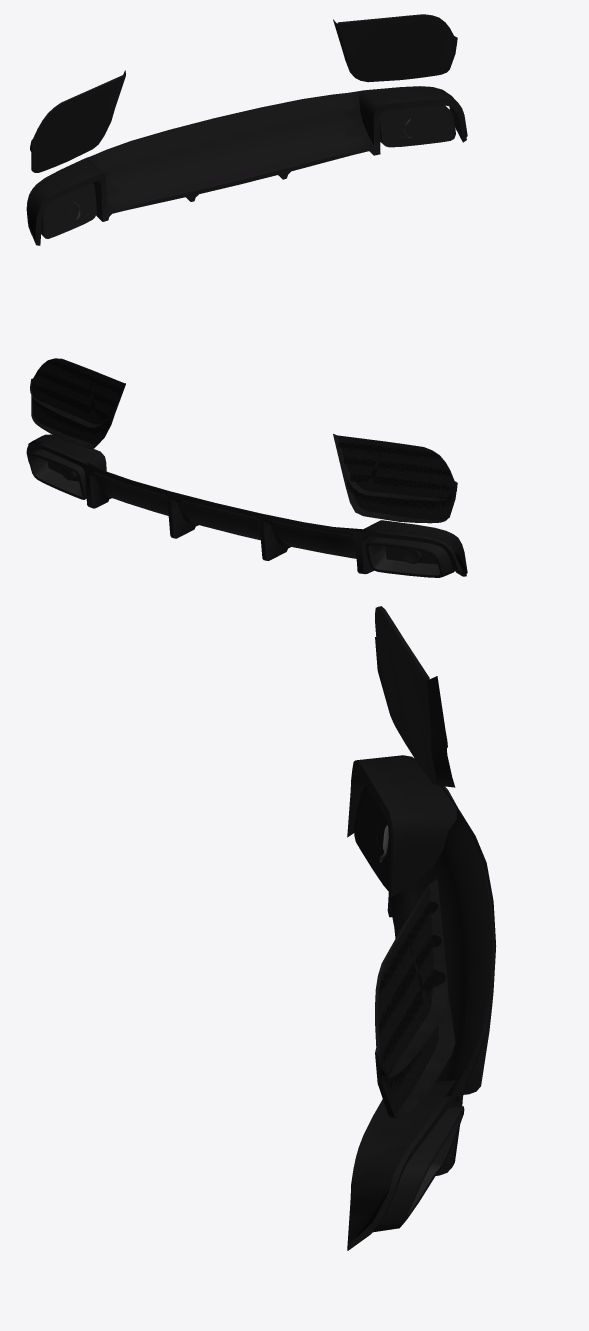
Rendered from sbr_rear_s.dae.
3 views of the same model, one above another, from view 1: azimuth 30°, elevation 25°; view 2: azimuth 150°, elevation 25°; view 3: azimuth 270°, elevation 25° (orthographic). The views are drawn at different scales.
Parts seen in each view (by area): view 1: sbr_bumper_R_s_lipa, sbr_bumper_R_s_l, sbr_exhausttip_s, sbr_bumper_R_s, sbr_bumper_R_s_lipb; view 2: sbr_bumper_R_s, sbr_bumper_R_s_lipa, sbr_bumper_R_s_l, sbr_exhausttip_s, sbr_bumper_R_s_lipb; view 3: sbr_bumper_R_s_lipa, sbr_bumper_R_s_l, sbr_bumper_R_s, sbr_exhausttip_s.
Part boxes in pixels (left/top/right/bottom): sbr_bumper_R_s_lipa: left=26, top=86, right=467, bottom=245; sbr_bumper_R_s_l: left=31, top=15, right=457, bottom=172; sbr_exhausttip_s: left=41, top=105, right=455, bottom=238; sbr_bumper_R_s: left=26, top=14, right=457, bottom=235; sbr_bumper_R_s_lipb: left=153, top=158, right=324, bottom=204; sbr_bumper_R_s: left=30, top=358, right=466, bottom=570; sbr_bumper_R_s_lipa: left=26, top=434, right=467, bottom=576; sbr_bumper_R_s_l: left=31, top=372, right=456, bottom=523; sbr_exhausttip_s: left=28, top=449, right=454, bottom=577; sbr_bumper_R_s_lipb: left=131, top=484, right=314, bottom=560; sbr_bumper_R_s_lipa: left=347, top=755, right=496, bottom=1250; sbr_bumper_R_s_l: left=375, top=607, right=455, bottom=1118; sbr_bumper_R_s: left=356, top=606, right=447, bottom=1237; sbr_exhausttip_s: left=354, top=785, right=464, bottom=1232.
Bounding box in the file's own units: 1.75 × 0.5896 × 0.4964.
